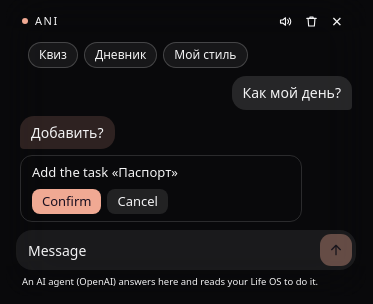
it: AniChat › cancels a proposal
Click the button "Cancel": (138,201) [108,189,168,214]
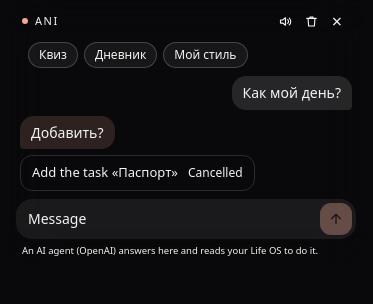
Check: the text "Cancelled" is shown, box [188,164,243,182]
